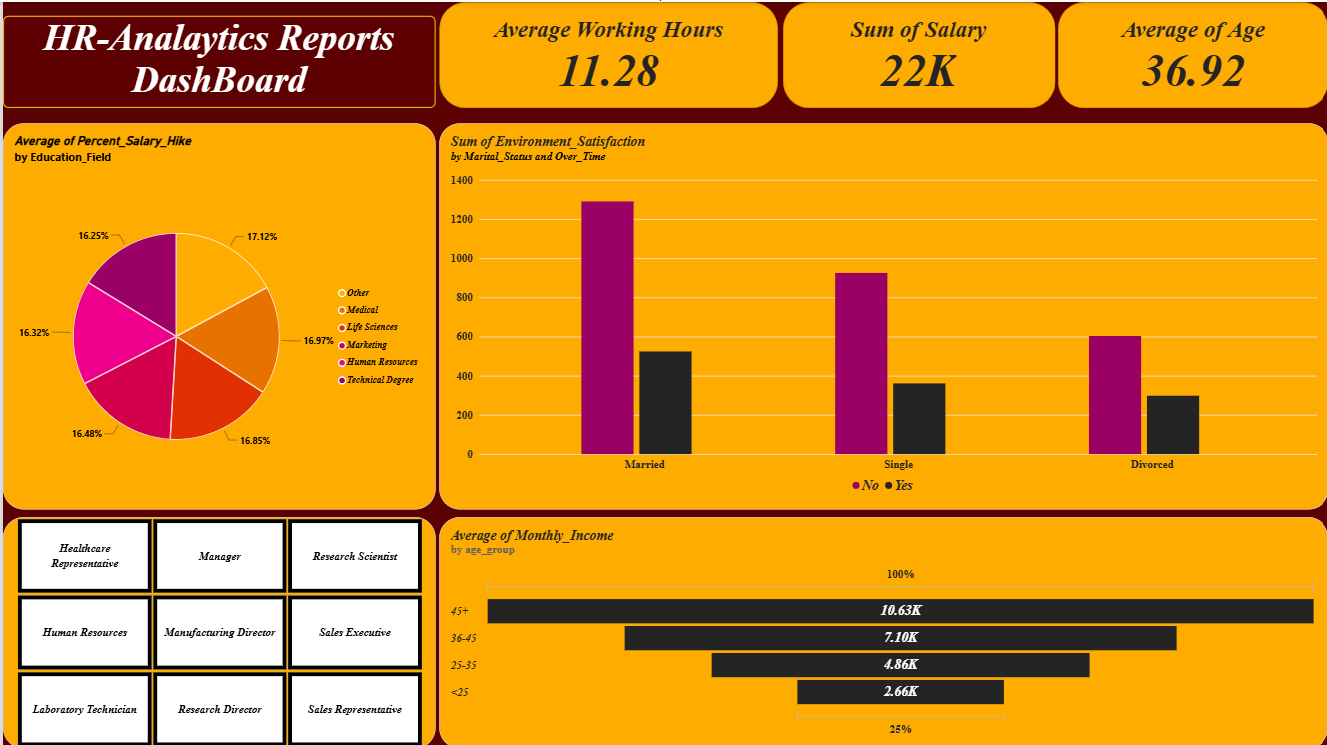

What the dashboard file says about the page in this screenshot:
{"tool":"powerbi","page":{"name":"Page 1","canvas":[1920,1080],"ordinal":0},"visuals":[{"type":"shape","box":[1527.4,0,392.7,153.8],"z":0},{"type":"shape","box":[1129.2,0,394.5,153.8],"z":1000},{"type":"cardVisual","title":"Average of Age","fields":{"Data":["Avg(c723481e-8f27-4587-9752-b4f6e5e.Age)"]},"box":[1567.2,19.9,312.9,107],"z":2000},{"type":"cardVisual","title":"Sum of Salary","fields":{"Data":["Sum(c723481e-8f27-4587-9752-b4f6e5e.Percent_Salary_Hike)"]},"box":[1169,19.9,312.9,107],"z":3000},{"type":"textbox","box":[0,19.9,626.1,133.9],"z":4000},{"type":"shape","box":[631.6,0,490.4,153.8],"z":5000},{"type":"cardVisual","title":"Average Working Hours","fields":{"Data":["Avg(c723481e-8f27-4587-9752-b4f6e5e.Total_Working_Years)"]},"box":[673.2,19.9,407.2,106.8],"z":6000},{"type":"pieChart","fields":{"Category":["c723481e-8f27-4587-9752-b4f6e5e.Education_Field"],"Y":["Avg(c723481e-8f27-4587-9752-b4f6e5e.Percent_Salary_Hike)"]},"box":[0,175.5,626.1,559.2],"z":7000},{"type":"slicer","fields":{"Values":["c723481e-8f27-4587-9752-b4f6e5e.Job_Role"]},"box":[0,745,626,335],"z":8000},{"type":"lineClusteredColumnComboChart","fields":{"Category":["c723481e-8f27-4587-9752-b4f6e5e.Marital_Status"],"Series":["c723481e-8f27-4587-9752-b4f6e5e.Over_Time"],"Y":["Sum(c723481e-8f27-4587-9752-b4f6e5e.Environment_Satisfaction)"]},"box":[631.6,175.5,1288.5,559.2],"z":9000},{"type":"funnel","fields":{"Category":["c723481e-8f27-4587-9752-b4f6e5e.age_group"],"Y":["Avg(c723481e-8f27-4587-9752-b4f6e5e.Monthly_Income)"]},"box":[632,745,1288,335],"z":10000}]}

Visuals, with their boxes in screenshot pixels (x1, y1, x2, y2), scaled from the page's 1920x1080 canvas onto the 1327x745 screenshot:
shape: 1056, 0, 1326, 106
shape: 780, 0, 1053, 106
"Average of Age" cardVisual: 1083, 14, 1299, 88
"Sum of Salary" cardVisual: 808, 14, 1024, 88
textbox: 0, 14, 433, 106
shape: 437, 0, 775, 106
"Average Working Hours" cardVisual: 465, 14, 747, 87
pieChart - c723481e-8f27-4587-9752-b4f6e5e.Education_Field x Avg(c723481e-8f27-4587-9752-b4f6e5e.Percent_Salary_Hike): 0, 121, 433, 507
slicer - c723481e-8f27-4587-9752-b4f6e5e.Job_Role: 0, 514, 433, 744
lineClusteredColumnComboChart - c723481e-8f27-4587-9752-b4f6e5e.Marital_Status x c723481e-8f27-4587-9752-b4f6e5e.Over_Time: 437, 121, 1326, 507
funnel - c723481e-8f27-4587-9752-b4f6e5e.age_group x Avg(c723481e-8f27-4587-9752-b4f6e5e.Monthly_Income): 437, 514, 1326, 744
